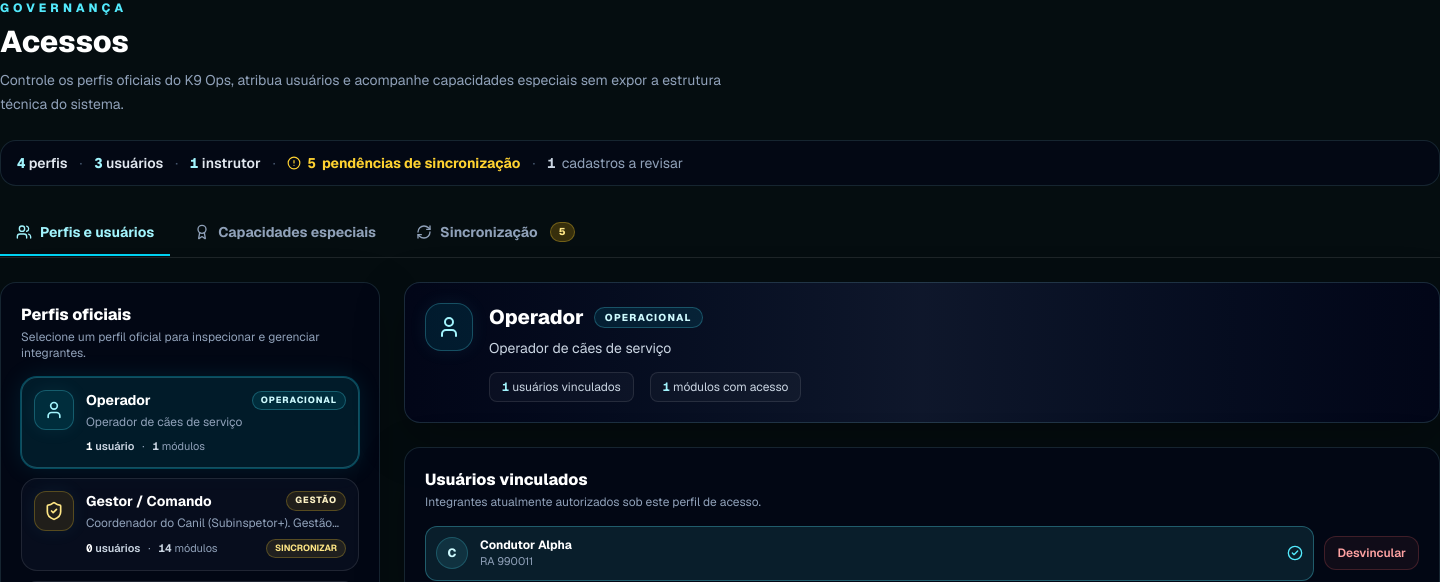
AccessProfilesPage (F10.ACCESS-UX.IA-POLISH-V1) › Navigation & Information Architecture › navega para 'Sincronização' separadamente
The width and height of the screenshot is (1440, 582).
Click the tab "Sincronização 5". click: (495, 233)
box: [400,210,590,256]
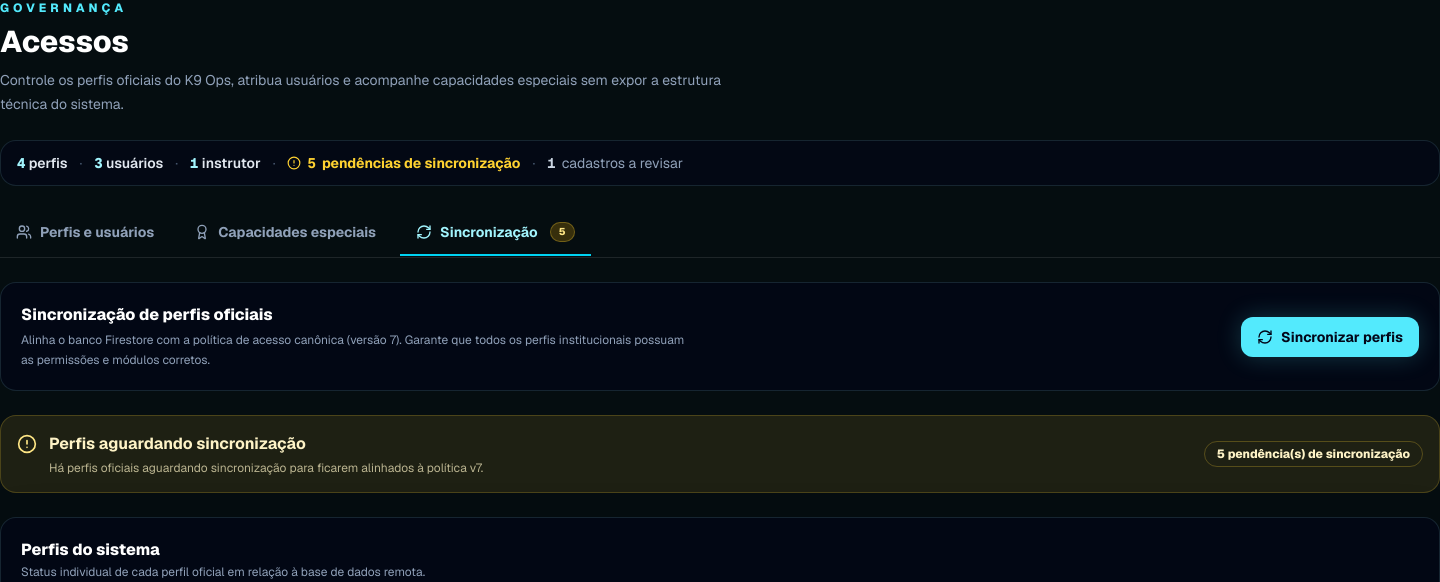
Check: the heading "Sincronização de perfis oficiais" is shown, box [21,304,273,325]
Check: the heading "Perfis do sistema" is shown, box [21,539,160,560]
